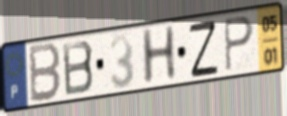3: (108, 32, 136, 91)
B: (28, 41, 63, 105), (61, 38, 96, 98)
H: (140, 23, 179, 88)
P: (222, 14, 256, 74)
Z: (187, 18, 220, 81)
